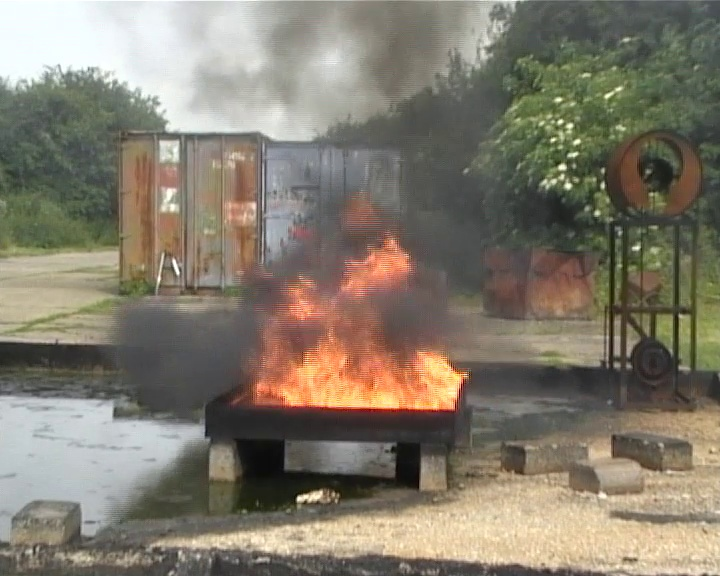fire: (258, 238, 459, 410)
